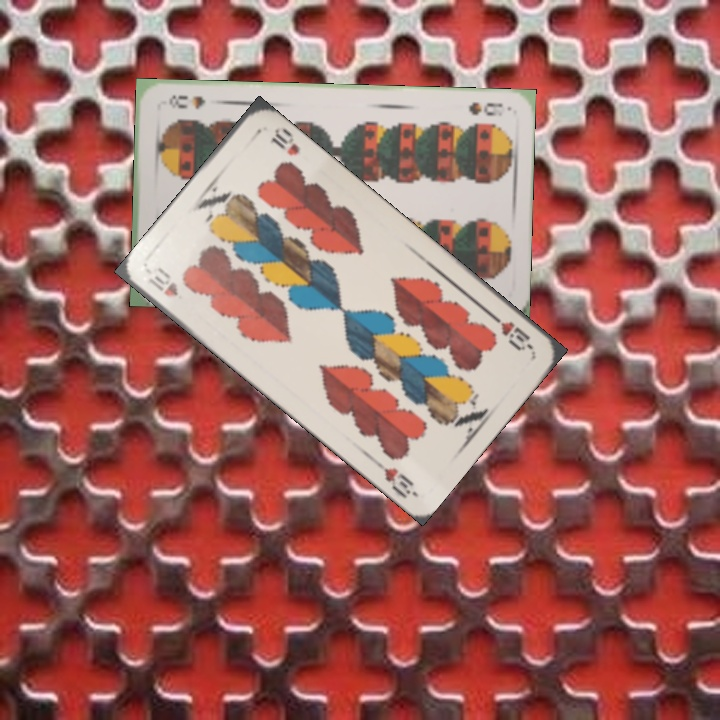H10: (486, 309, 535, 354), (144, 264, 182, 300)
S8: (464, 97, 505, 118)
